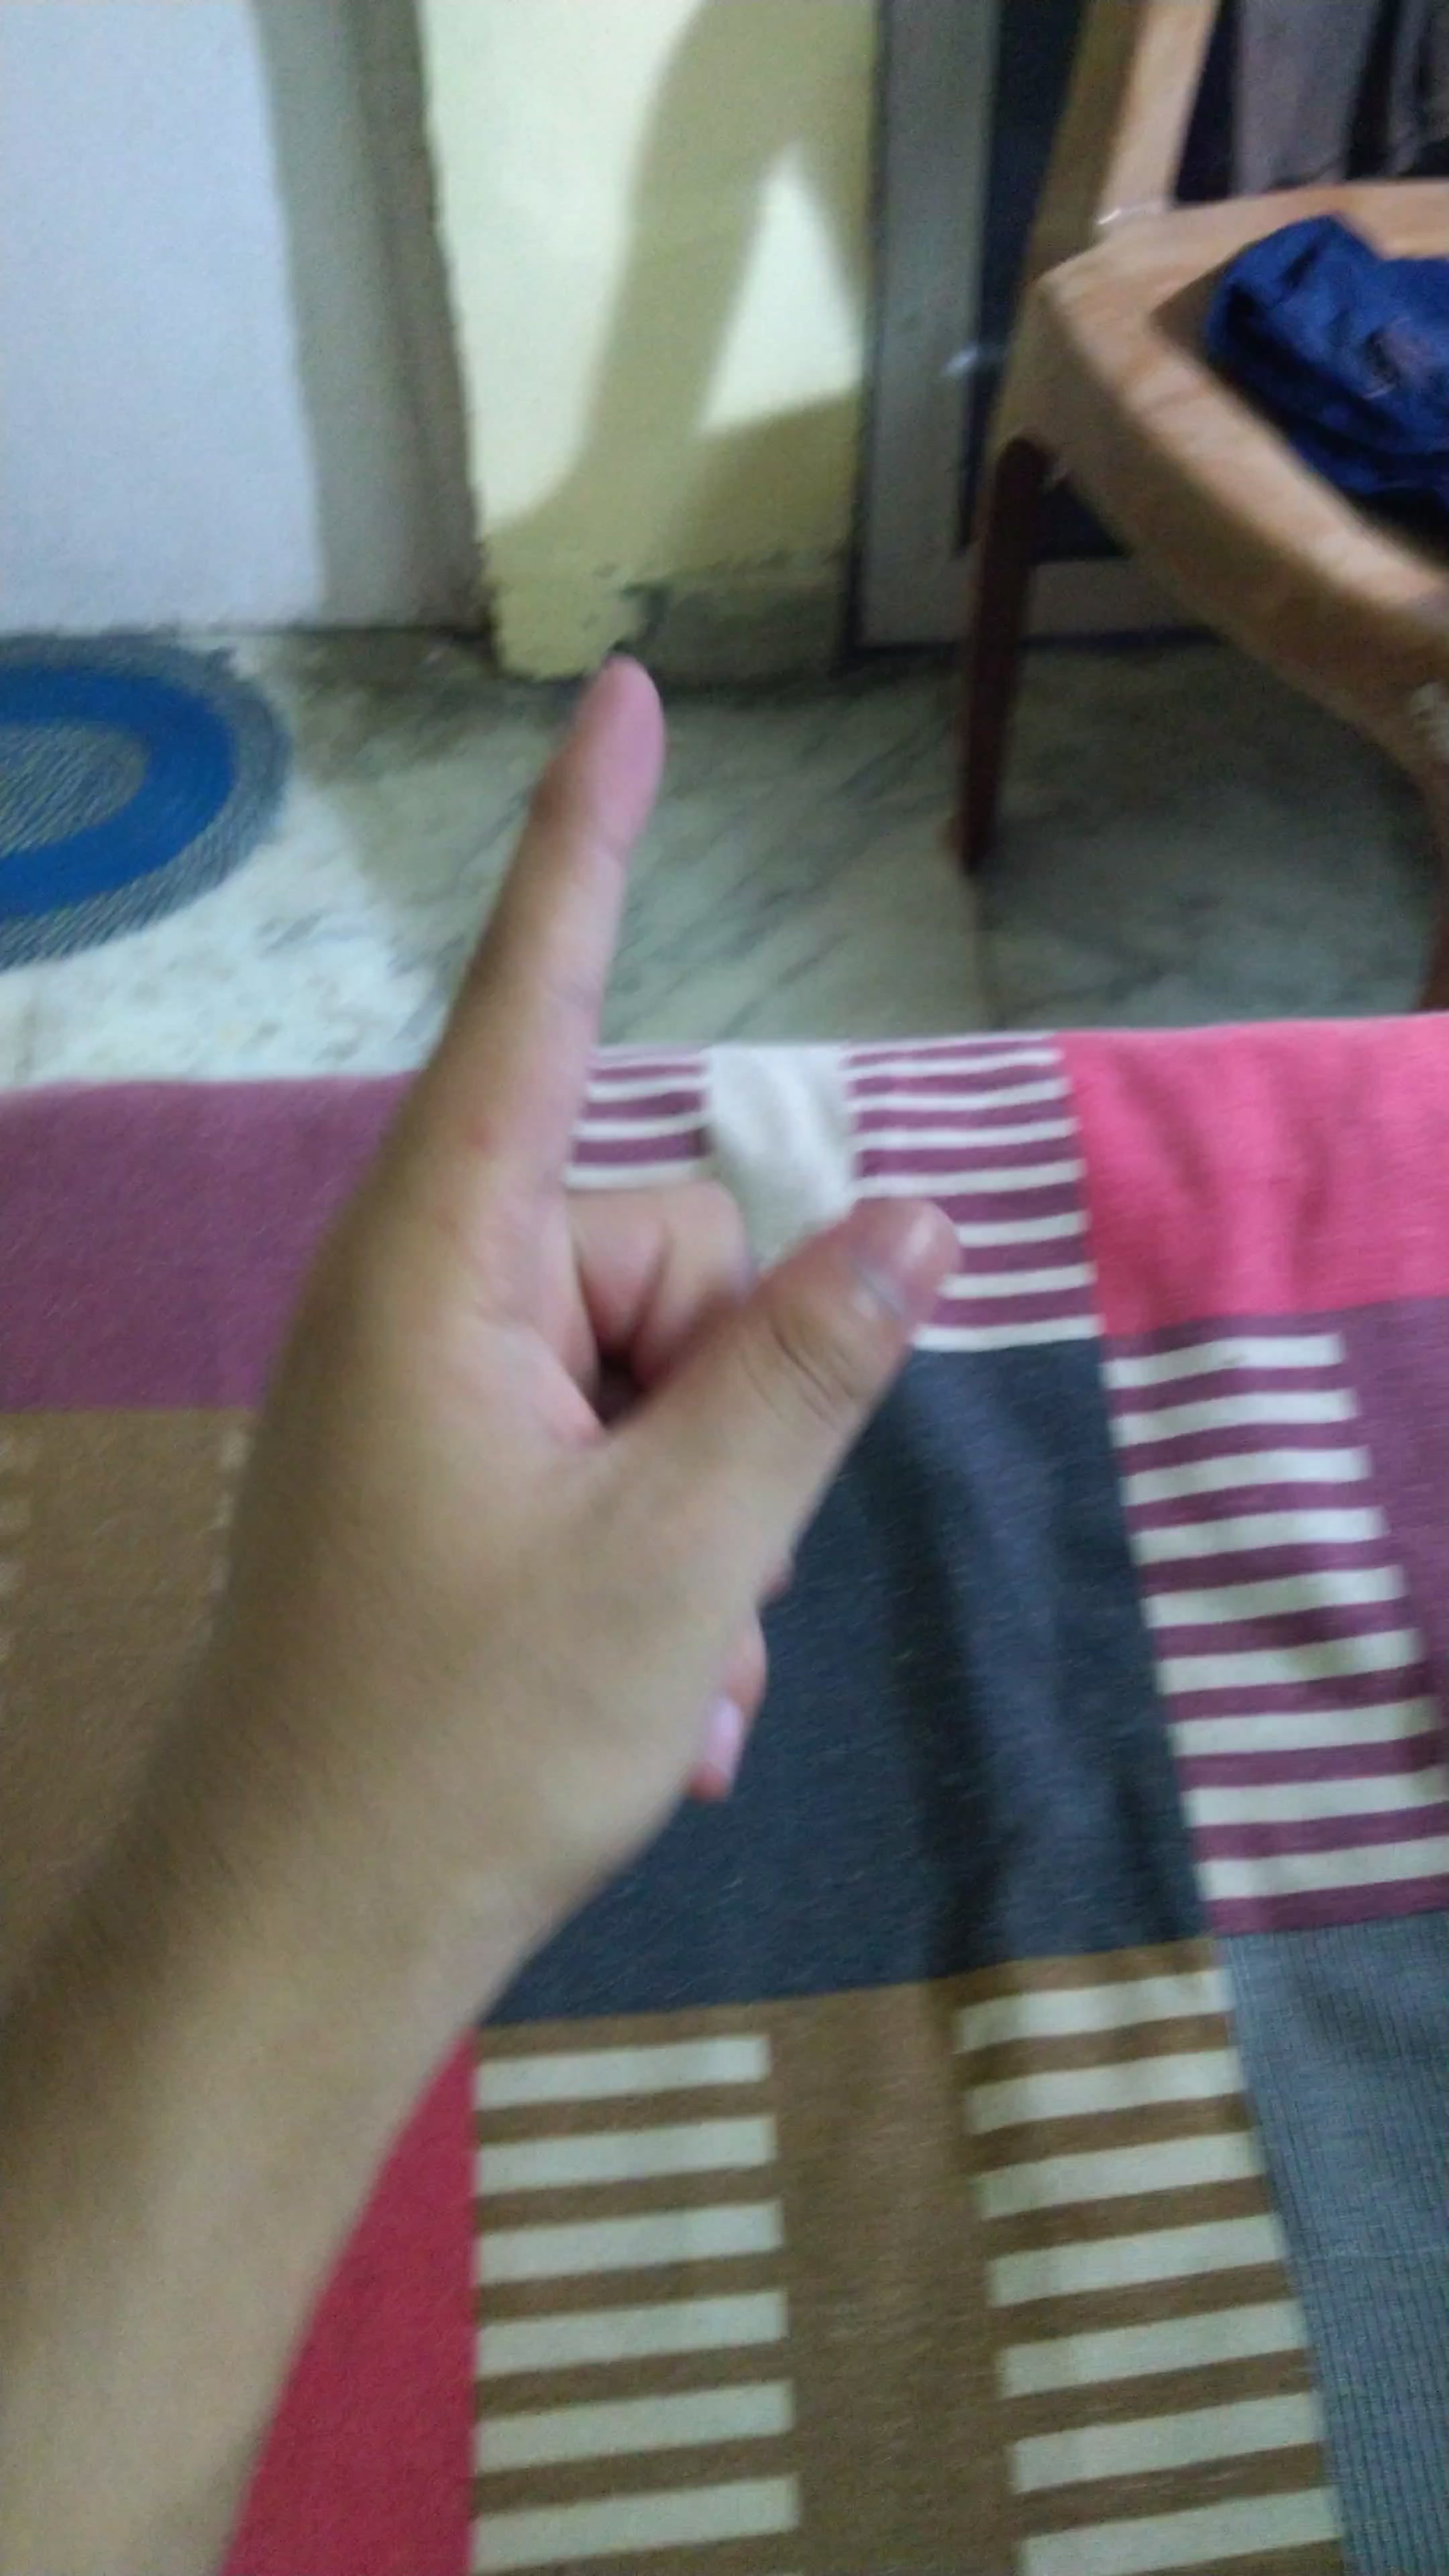hand: (200, 635, 996, 2006)
